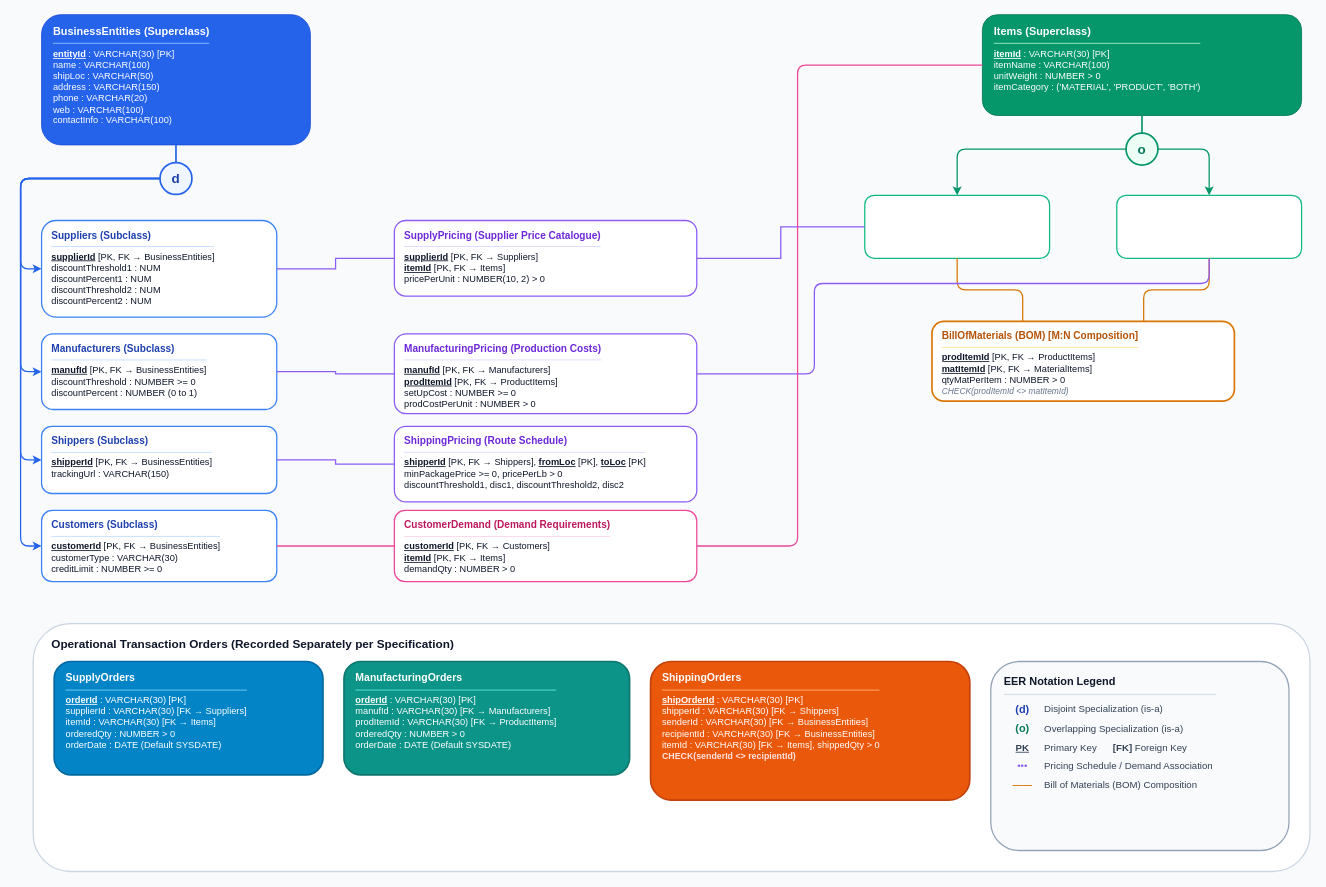
Image size: 1326x887. Some labels were removed from this diagram. Here are the shapes that lost their labels. From the top down, the centre of each, then its label:
the point at 957,226: MaterialItems (Subclass) itemId [PK, FK → Items] materialType : VARCHAR(50)
the point at 1209,226: ProductItems (Subclass) itemId [PK, FK → Items] productLine : VARCHAR(50)
